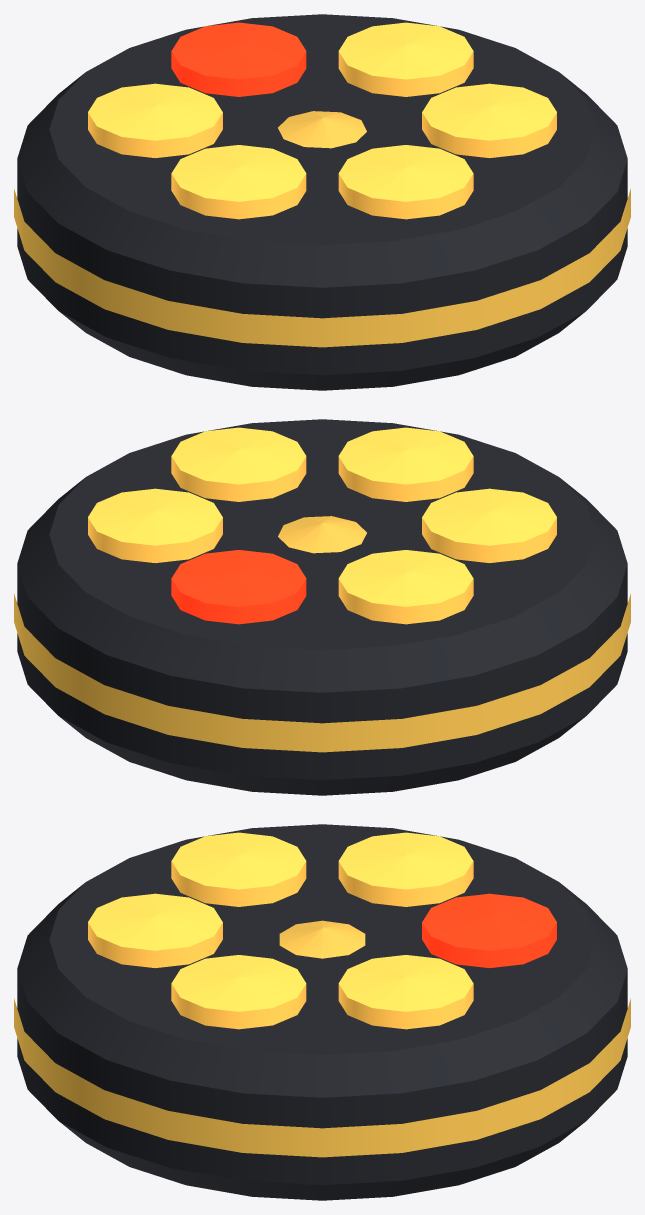
File: lb4_chambers_1.glb
3 views of the same model, one above another, from view 1: azimuth 30°, elevation 25°; view 2: azimuth 150°, elevation 25°; view 3: azimuth 270°, elevation 25° (orthographic).
Parts seen in each view (by area): view 1: lb4_chambers_1; view 2: lb4_chambers_1; view 3: lb4_chambers_1.
Boxes of the visible parts, x1=… form: lb4_chambers_1: x1=14, y1=14, x2=630, y2=390; lb4_chambers_1: x1=14, y1=419, x2=630, y2=795; lb4_chambers_1: x1=14, y1=824, x2=630, y2=1200.
Size of the model in its own units: 0.192 by 0.058 by 0.192.
